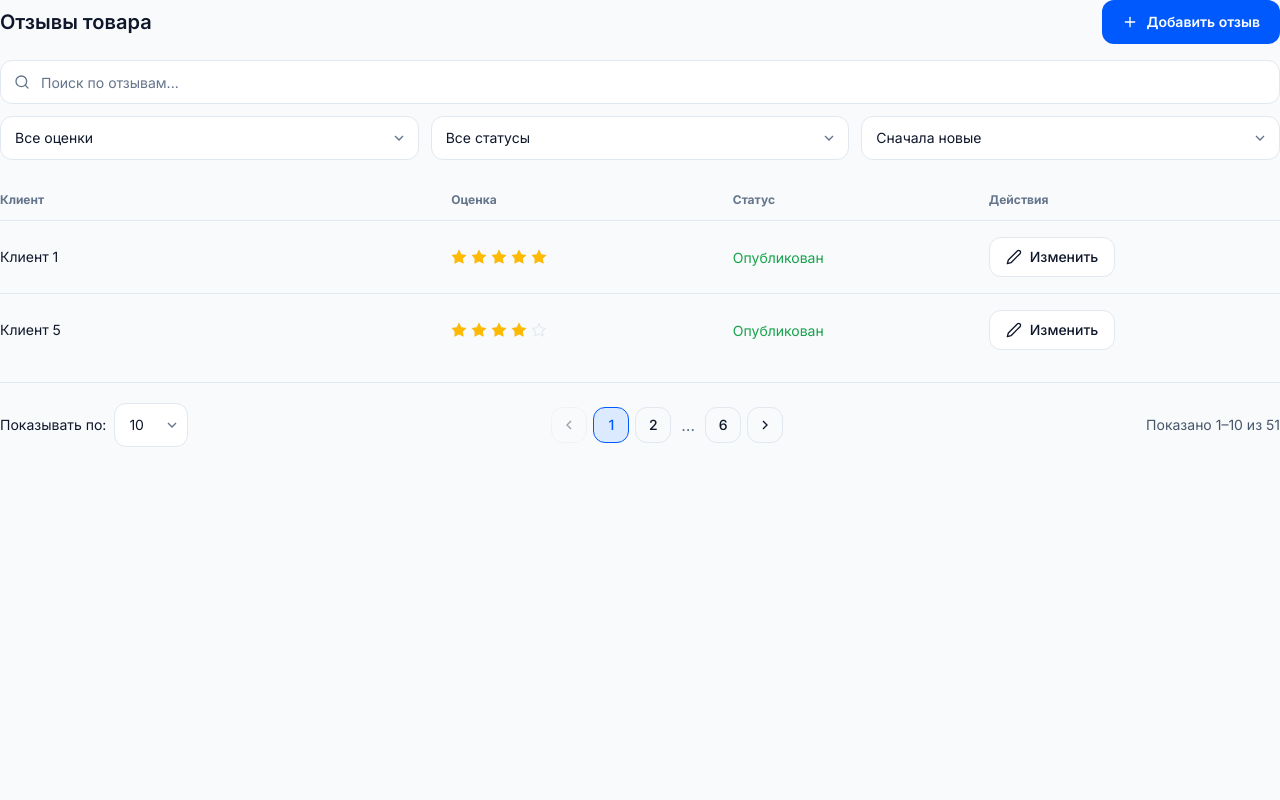
product review administration › deletes only after confirming in the shared deletion modal
Check: the text "Клиент 1" is shown, box [0,220,435,294]
What coordinates should you click on to do the following:
click the button "Изменить" in the row of "Клиент 1"
I would click on:
 (1052, 257)
Its box is [989,237,1115,277].
(page scrolled)
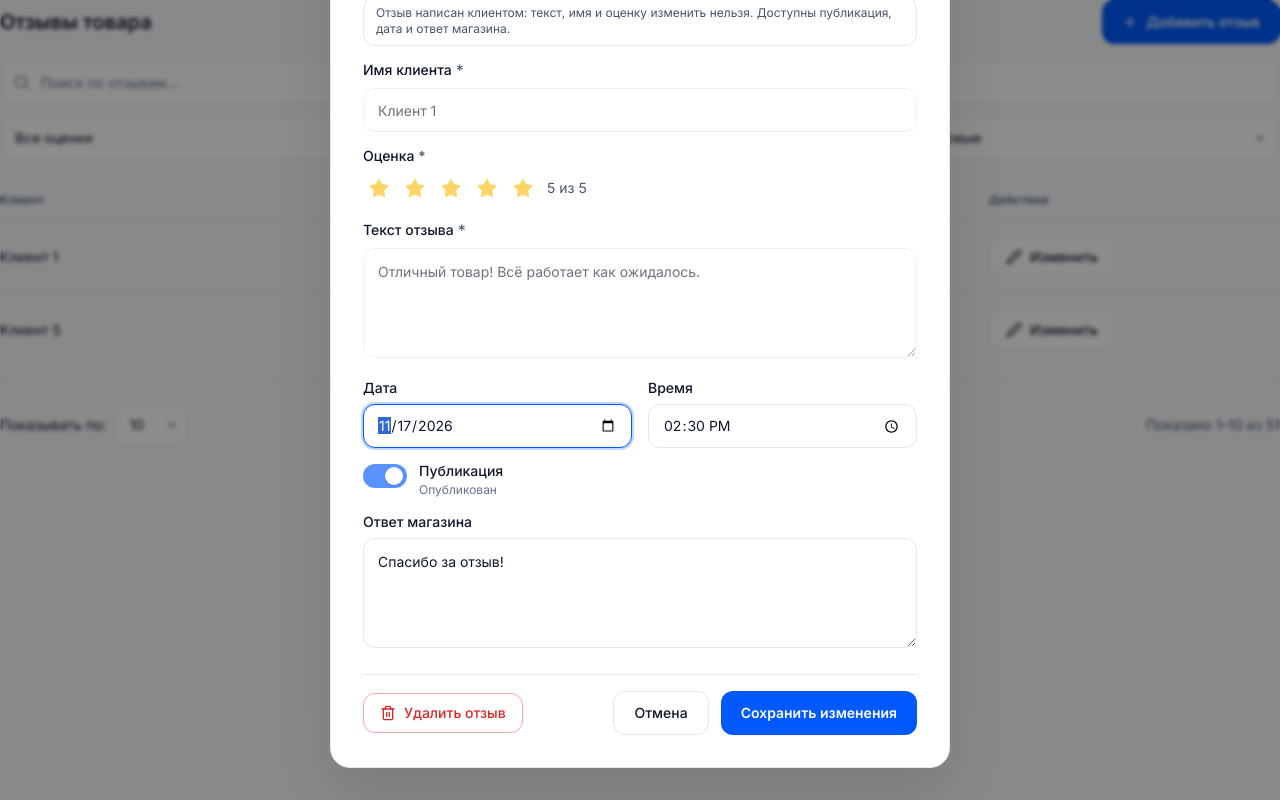
What coordinates should you click on to do the following:
click the button "Удалить отзыв"
I would click on:
 (443, 713)
Its box is [363,693,523,733].
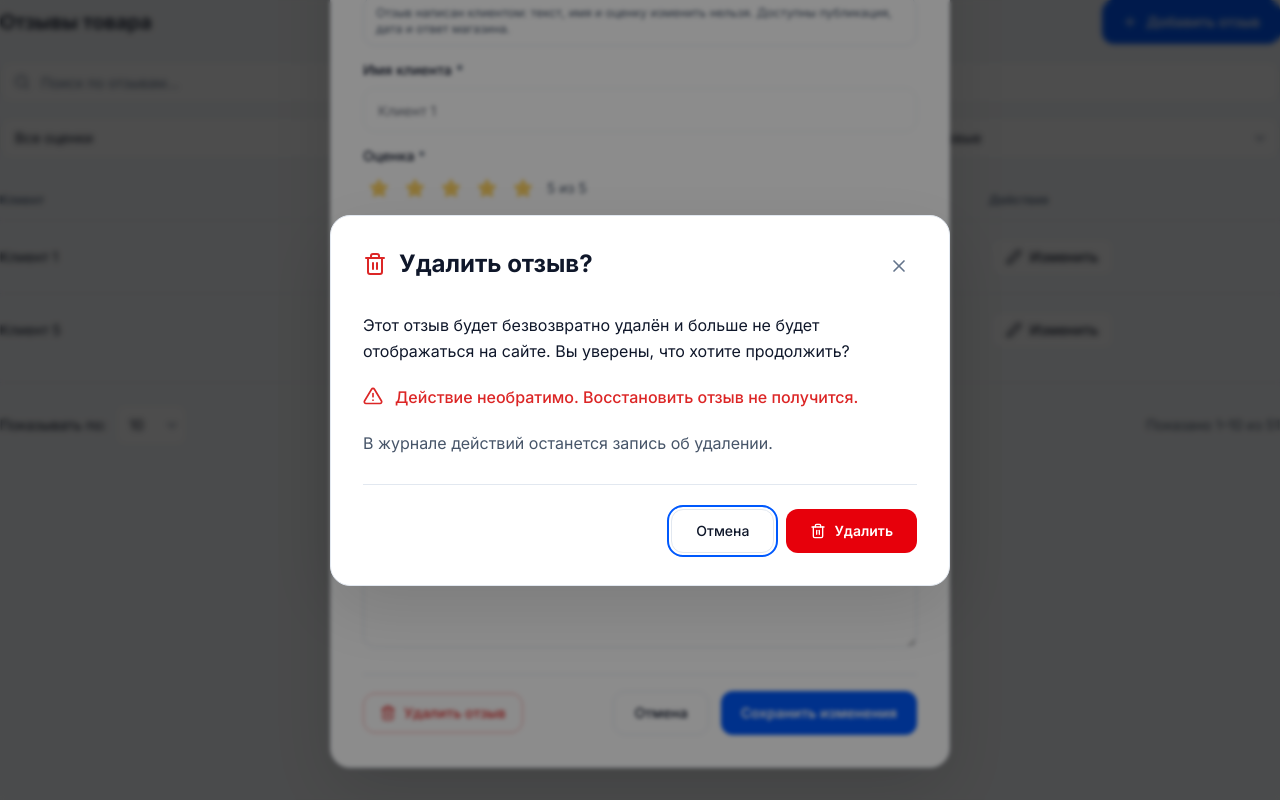
Check: the heading "Удалить отзыв?" is shown, box [399,248,593,280]
Check: the text "Этот отзыв будет безвозвратно удалён" is shown, box [363,314,850,360]
What coordinates should you click on to do the following:
click the button "Удалить"
I would click on:
 (852, 530)
Its box is [786,508,917,552].
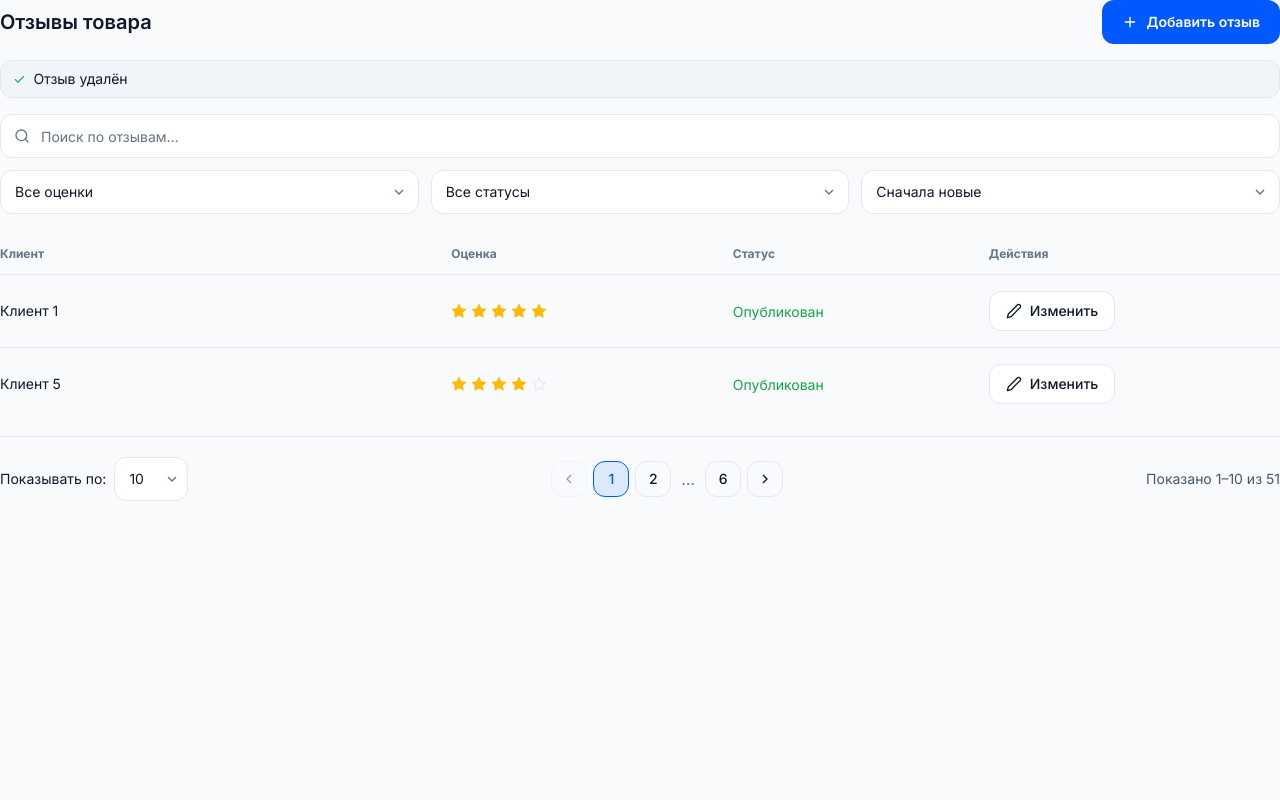
Check: the text "Отзыв удалён" is shown, box [33,70,128,87]
